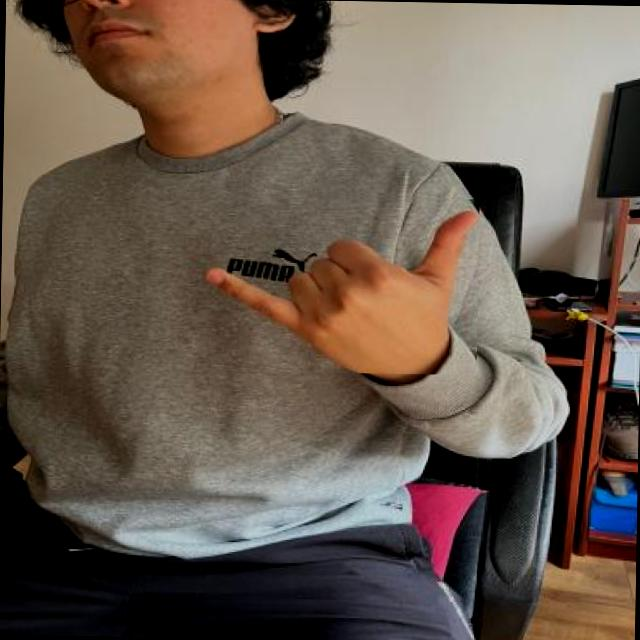Y: (200, 188, 479, 376)
